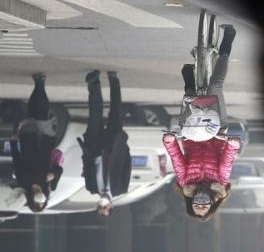person: (160, 27, 243, 222), (80, 69, 131, 218), (10, 72, 61, 212)
